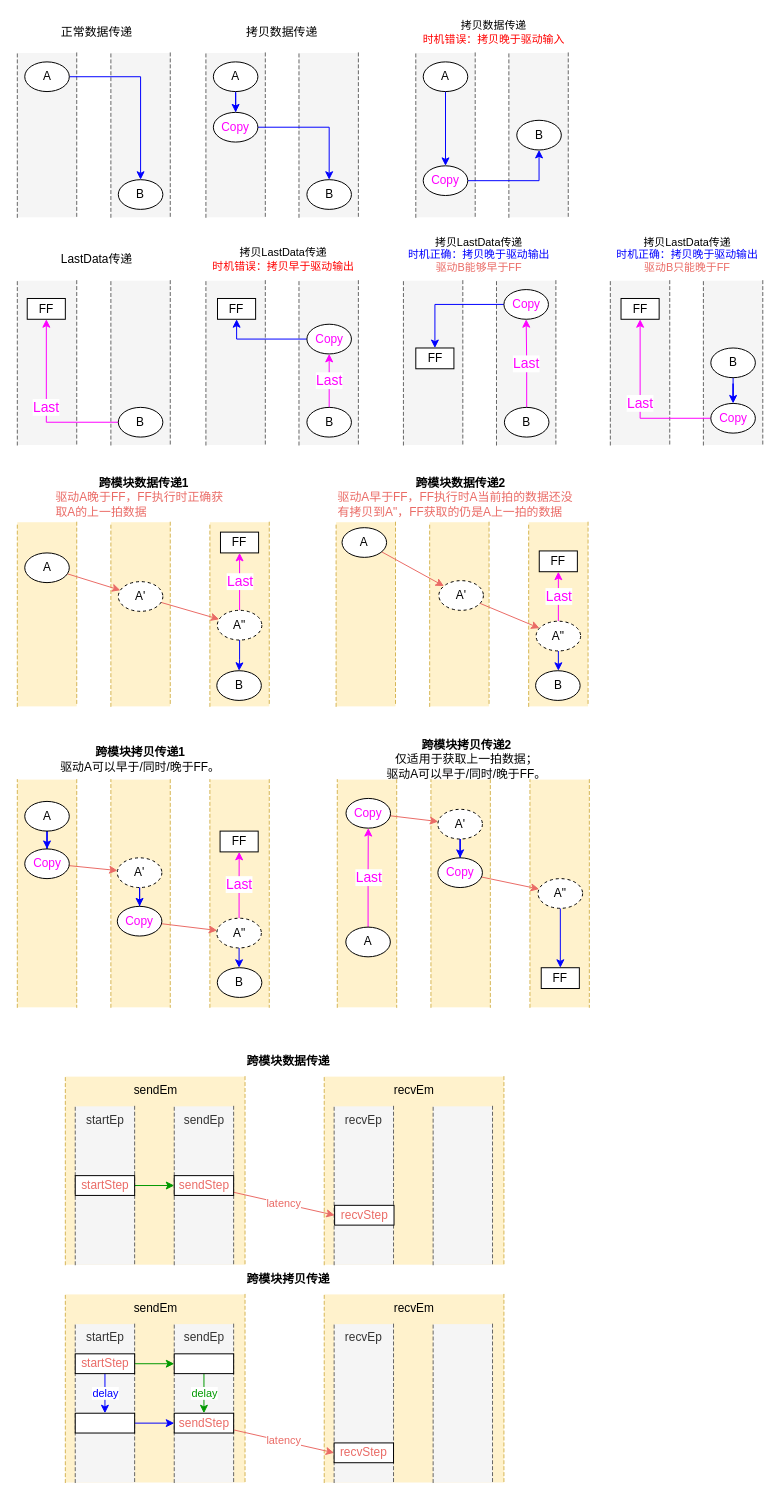
This 780x1500 diagram has some shape labels left out. Here are the shapes that lost their labels. From the top down, the centre of each, then its label:
point (203, 1363): copy2Step
point (104, 1422): copy1Step
